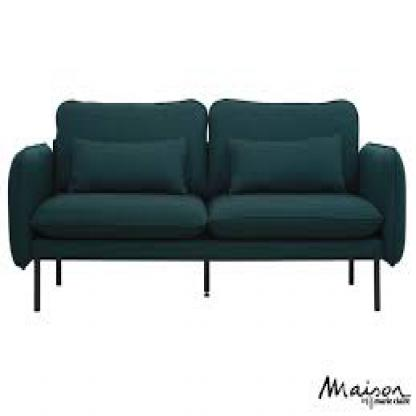sofa: (8, 92, 397, 307)
